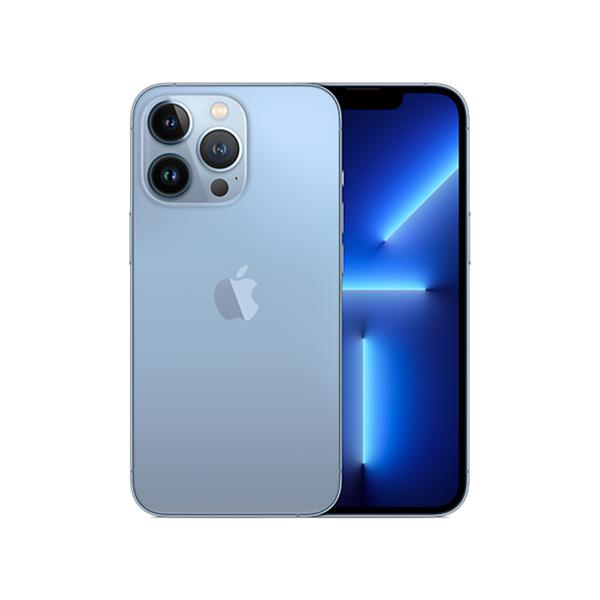Smartphone: (138, 73, 335, 525), (327, 83, 479, 525)
